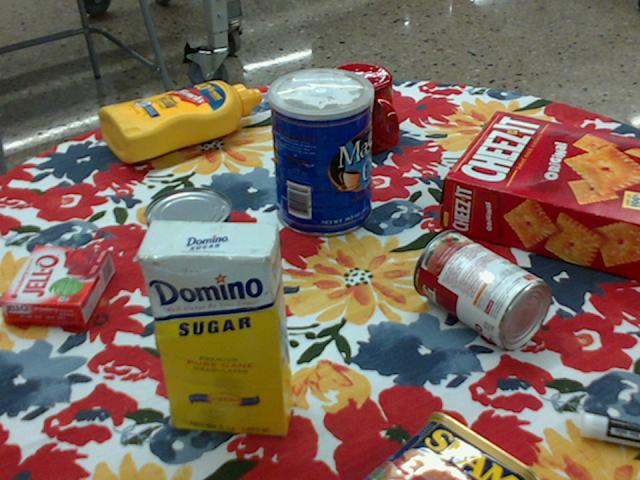cracker_box: (440, 111, 639, 282)
gelatin_box: (1, 247, 114, 330)
large_marker: (582, 410, 639, 446)
master_chef_can: (268, 68, 374, 237)
mug: (319, 63, 398, 156)
mustard_bottle: (96, 81, 260, 162)
potted_meat_can: (364, 411, 546, 479)
sugar_box: (134, 218, 295, 436)
tomato_soup_can: (414, 230, 553, 349)
tuna_fish_can: (143, 188, 231, 260)
